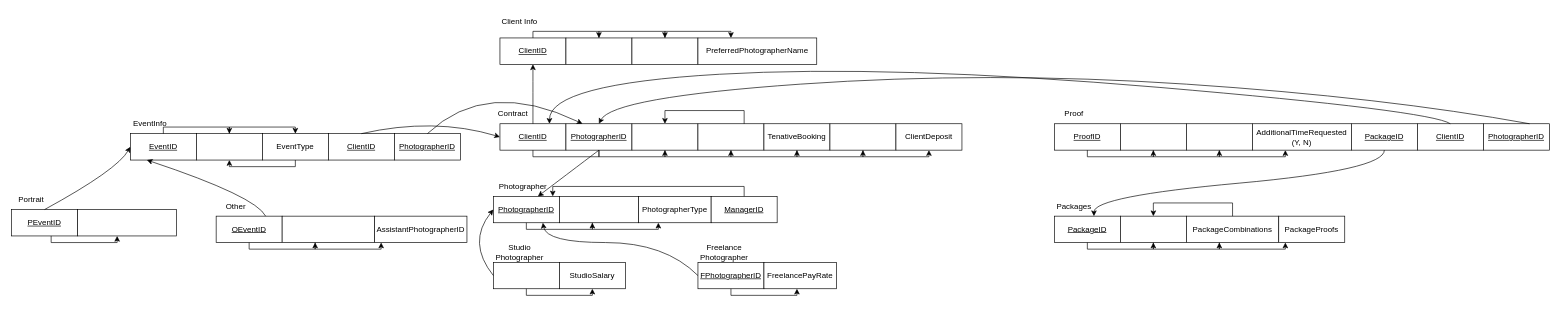
The diagram is 1561 pixels wide and 312 high, and some of its shapes have lost their labels. The shapes that lost their labels are listed below. From the top down, each one's centre as x and y in pixels, then its label:
At [598,50]: "Location".
At [664,50]: "Time".
At [229,146]: "CostEstimate".
At [664,136]: "EventInformation".
At [730,136]: "StudioEstimate".
At [862,136]: "ClientSignature".
At [1153,136]: "ProofComments".
At [1219,136]: "ProofDate".
At [127,222]: "AssignedPhotographerID".
At [328,229]: "PrimaryPhotographerID".
At [599,209]: "PhotographerName".
At [1153,229]: "PackagePrice".
At [526,275]: "SPhotographerID".
